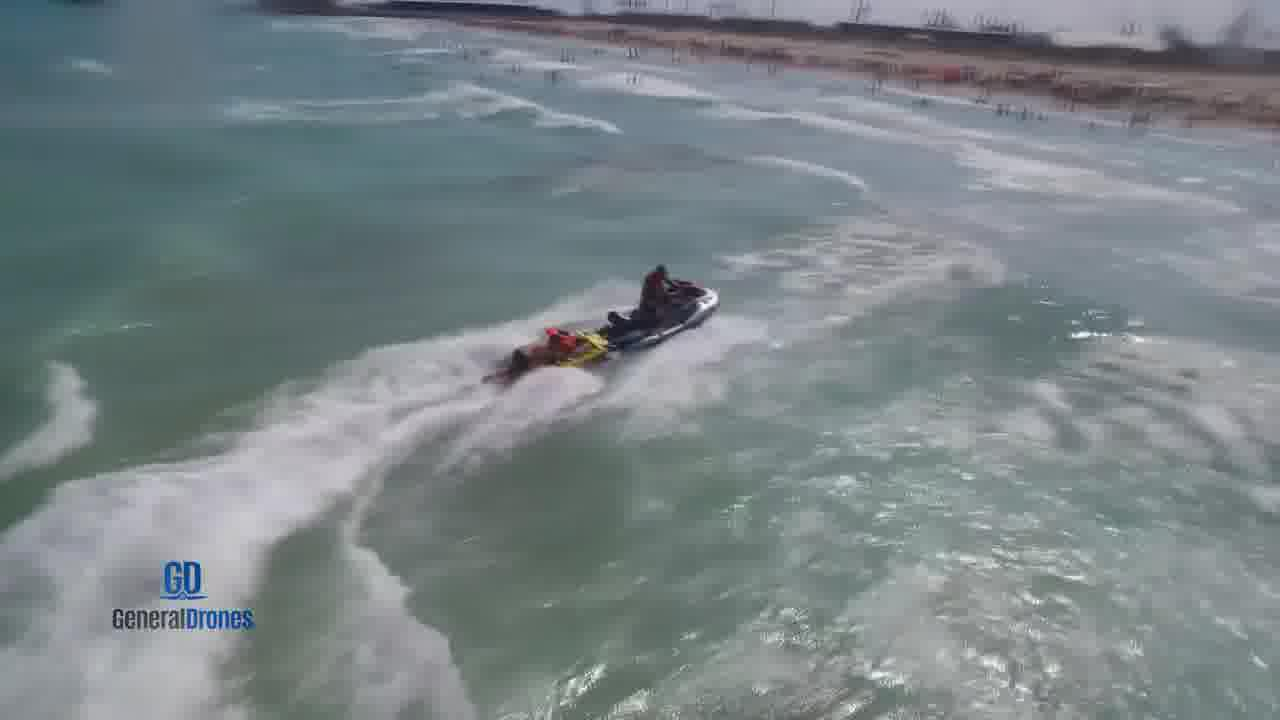human: (499, 349, 547, 374)
